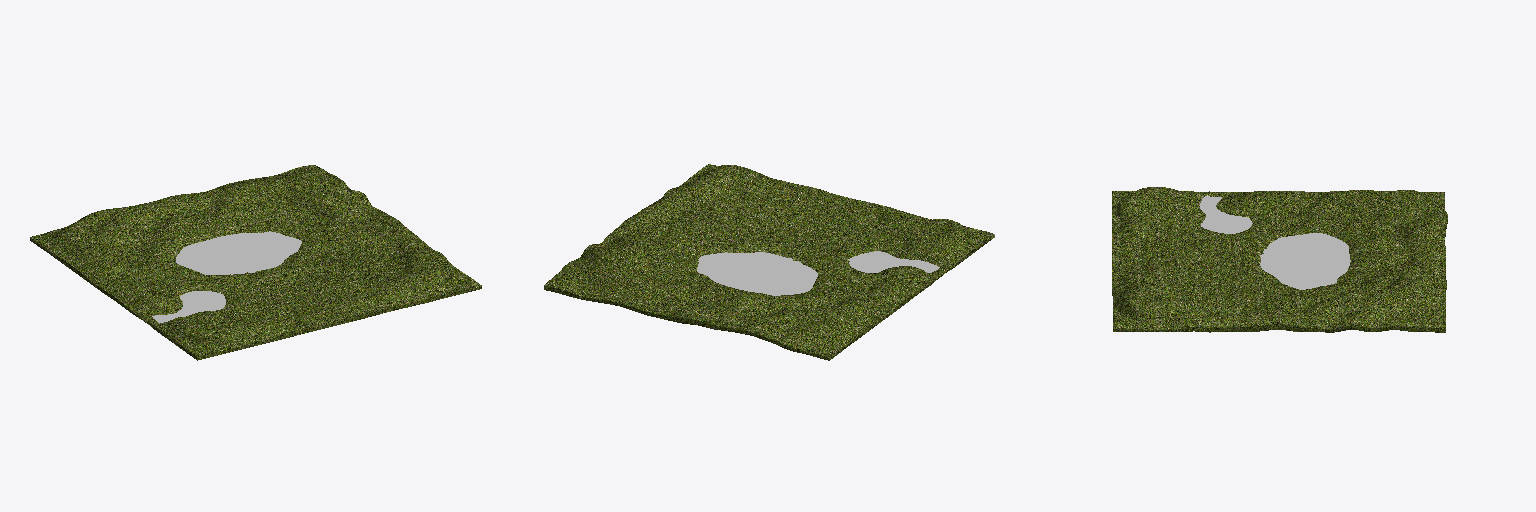
The picture shows the model from 3 angles: view 1: azimuth 30°, elevation 25°; view 2: azimuth 150°, elevation 25°; view 3: azimuth 270°, elevation 25°; orthographic projection.
Parts seen in each view (by area): view 1: 10450_Rectangular_Grass_Patch_v1_iterations-2, Plane_Plane.001; view 2: 10450_Rectangular_Grass_Patch_v1_iterations-2, Plane_Plane.001; view 3: 10450_Rectangular_Grass_Patch_v1_iterations-2, Plane_Plane.001.
Boxes of the visible parts, <box> form: 10450_Rectangular_Grass_Patch_v1_iterations-2: <box>30,165,481,360</box>; Plane_Plane.001: <box>152,231,301,322</box>; 10450_Rectangular_Grass_Patch_v1_iterations-2: <box>544,164,994,360</box>; Plane_Plane.001: <box>697,251,939,295</box>; 10450_Rectangular_Grass_Patch_v1_iterations-2: <box>1112,187,1447,332</box>; Plane_Plane.001: <box>1200,196,1350,289</box>.
Bounding box in the file's own units: 15.95 × 1.28 × 16.16.
Materials: 2 (1 with a texture image).